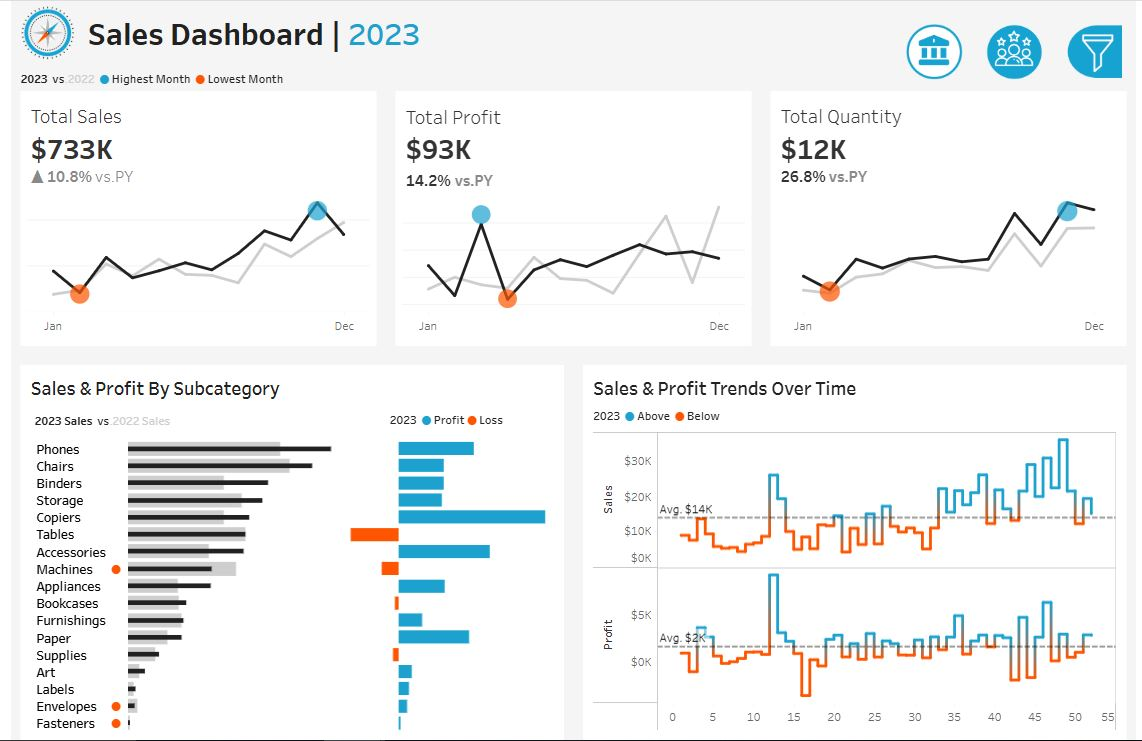

This screenshot's page, from the dashboard's own definition file:
{"tool":"tableau","page":{"name":"Sales Dashboard","canvas":[1200,800],"ordinal":1},"visuals":[{"type":"image","param":"Image/Icon - Logo.png","box":[0,0,78,68]},{"type":"text","box":[78,0,866,68]},{"type":"dashboard-object","box":[942,20,86,68]},{"type":"dashboard-object","box":[1028,20,85,68]},{"type":"dashboard-object","box":[1113,20,85,68]},{"type":"blank","box":[960,32,218,70]},{"type":"worksheet","title":"Legends KPI","mark":"Automatic","box":[0,68,1200,28]},{"type":"worksheet","title":"KPI Sales","mark":"Automatic","rows":["Calculation_0961305171902469"],"cols":["Order Date"],"box":[0,96,400,282]},{"type":"worksheet","title":"KPI Profit","mark":"Automatic","rows":["Min/Max Sales (copy)_0749374679343106"],"cols":["Order Date"],"box":[400,96,400,282]},{"type":"worksheet","title":"KPI Quantity","mark":"Automatic","rows":["Min/Max Profit (copy)_0749374696562701"],"cols":["Order Date"],"box":[800,96,400,282]},{"type":"text","box":[960,102,218,40]},{"type":"parameter","param":"[Parameters].[Parameter 1]","box":[960,142,218,56]},{"type":"blank","box":[960,198,218,45]},{"type":"text","box":[960,243,218,33]},{"type":"filter","title":"KPI Sales","param":"[federated.1jl9sbc1sltlhq1bgdkyt1qdwm82].[none:Category:nk]","box":[960,276,218,61]},{"type":"filter","title":"KPI Sales","param":"[federated.1jl9sbc1sltlhq1bgdkyt1qdwm82].[none:Sub-Category:nk]","box":[960,337,218,61]},{"type":"text","box":[17,395,566,40]},{"type":"text","box":[617,395,566,40]},{"type":"text","box":[960,398,218,33]},{"type":"filter","title":"KPI Sales","param":"[federated.1jl9sbc1sltlhq1bgdkyt1qdwm82].[none:Region:nk]","box":[960,431,218,61]},{"type":"worksheet","title":"Legends Subcategory","mark":"Automatic","box":[17,435,383,29]},{"type":"text","box":[400,435,183,29]},{"type":"text","box":[617,435,566,29]},{"type":"worksheet","title":"Subcategory Comparison","mark":"Bar","rows":["Sub-Category","Calculation_0961305189515275"],"cols":["CY Sales (copy)_0961305165062146","Calculation_0961305164337152","CY Sales (copy)_0961305187266570"],"box":[17,464,566,319]},{"type":"worksheet","title":"Weekly Trends","mark":"Automatic","rows":["Calculation_0961305164337152","CY Sales (copy)_0961305187266570"],"cols":["Order Date"],"box":[617,464,566,319]},{"type":"filter","title":"KPI Sales","param":"[federated.1jl9sbc1sltlhq1bgdkyt1qdwm82].[none:State:nk]","box":[960,492,218,61]},{"type":"filter","title":"KPI Sales","param":"[federated.1jl9sbc1sltlhq1bgdkyt1qdwm82].[none:City:nk]","box":[960,553,218,61]}]}

Visuals, with their boxes in screenshot pixels (x1, y1, x2, y2), scaled from the page's 1200x800 canvas onto the 1142x741 screenshot:
image: <bbox>0, 0, 74, 63</bbox>
text: <bbox>74, 0, 898, 63</bbox>
dashboard-object: <bbox>896, 19, 978, 82</bbox>
dashboard-object: <bbox>978, 19, 1059, 82</bbox>
dashboard-object: <bbox>1059, 19, 1140, 82</bbox>
blank: <bbox>914, 30, 1121, 94</bbox>
"Legends KPI" worksheet: <bbox>0, 63, 1141, 89</bbox>
"KPI Sales" worksheet: <bbox>0, 89, 381, 350</bbox>
"KPI Profit" worksheet: <bbox>381, 89, 761, 350</bbox>
"KPI Quantity" worksheet: <bbox>761, 89, 1141, 350</bbox>
text: <bbox>914, 94, 1121, 132</bbox>
parameter: <bbox>914, 132, 1121, 183</bbox>
blank: <bbox>914, 183, 1121, 225</bbox>
text: <bbox>914, 225, 1121, 256</bbox>
"KPI Sales" filter: <bbox>914, 256, 1121, 312</bbox>
"KPI Sales" filter: <bbox>914, 312, 1121, 369</bbox>
text: <bbox>16, 366, 555, 403</bbox>
text: <bbox>587, 366, 1126, 403</bbox>
text: <bbox>914, 369, 1121, 399</bbox>
"KPI Sales" filter: <bbox>914, 399, 1121, 456</bbox>
"Legends Subcategory" worksheet: <bbox>16, 403, 381, 430</bbox>
text: <bbox>381, 403, 555, 430</bbox>
text: <bbox>587, 403, 1126, 430</bbox>
"Subcategory Comparison" worksheet (Bar marks): <bbox>16, 430, 555, 725</bbox>
"Weekly Trends" worksheet: <bbox>587, 430, 1126, 725</bbox>
"KPI Sales" filter: <bbox>914, 456, 1121, 512</bbox>
"KPI Sales" filter: <bbox>914, 512, 1121, 569</bbox>
